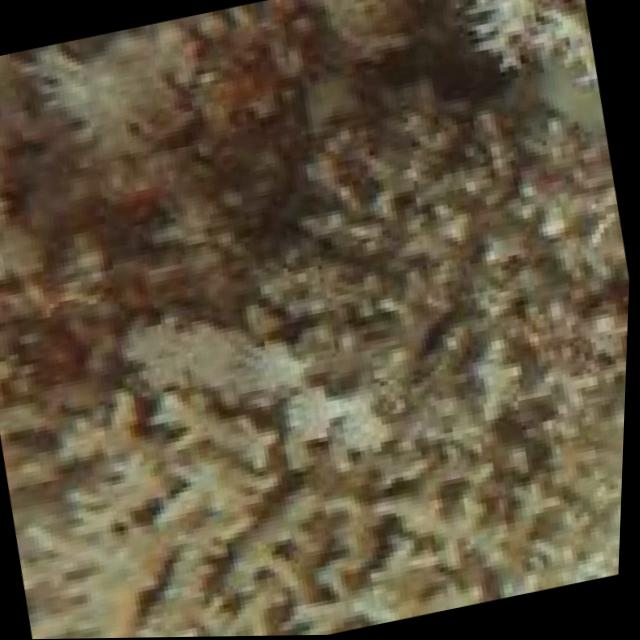Bleached Coral: (0, 311, 631, 640), (434, 0, 590, 104)
